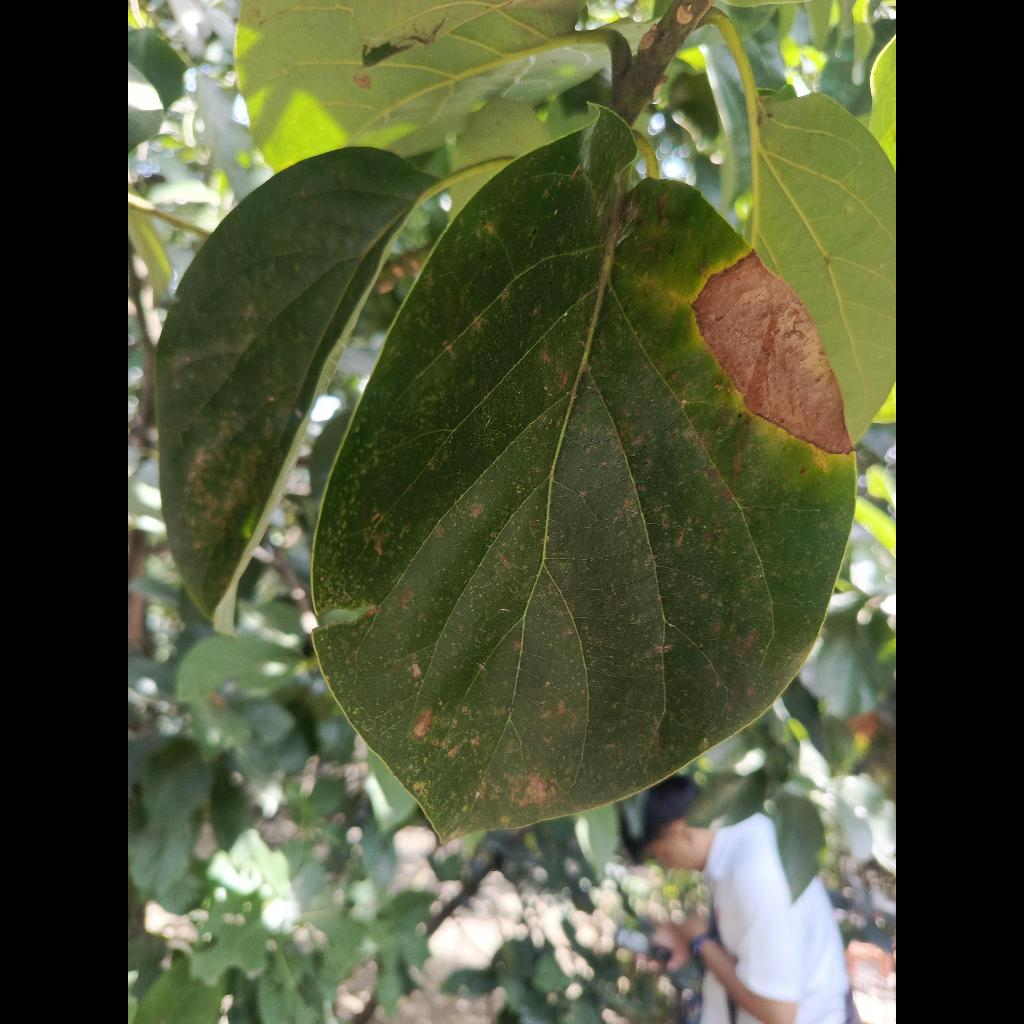Anthracnose: (294, 109, 848, 843)
